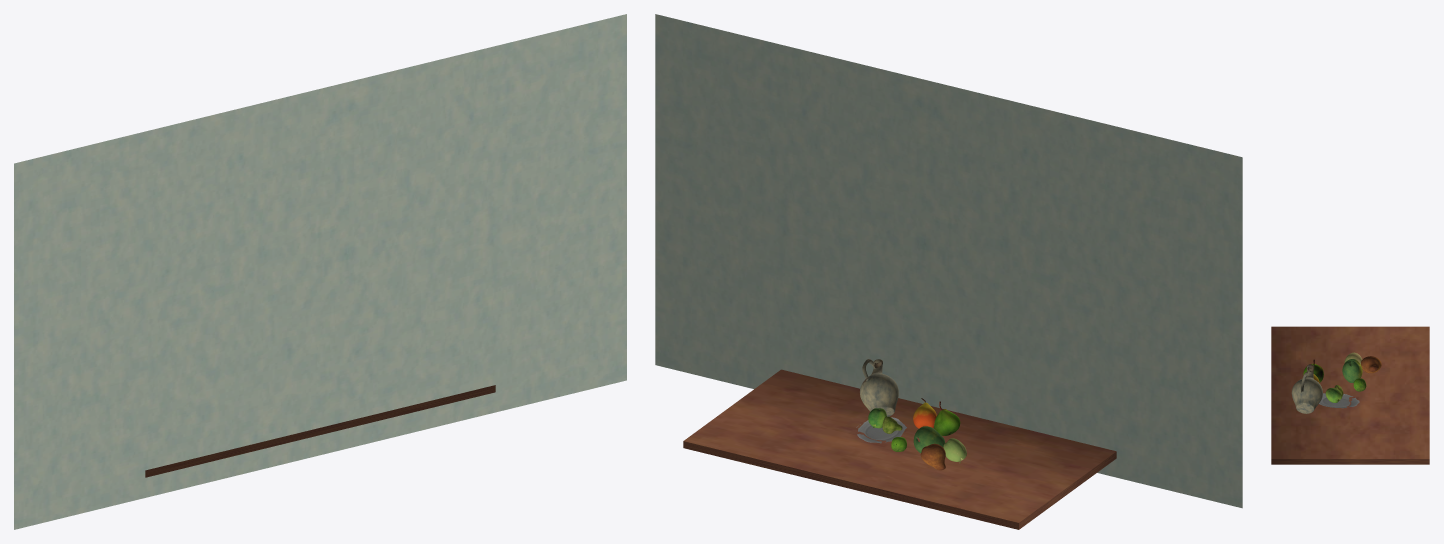
The model's file is viga.glb.
The picture shows the model from 3 angles, left to right: view 1: azimuth 30°, elevation 25°; view 2: azimuth 150°, elevation 25°; view 3: azimuth 270°, elevation 25°; orthographic projection. The views are drawn at different scales.
Parts seen in each view (by area): view 1: Pale sage wall, Continuous tabletop; view 2: Pale sage wall, Continuous tabletop, ceramic_jug_mesh; view 3: Continuous tabletop, ceramic_jug_mesh, green_pear_mesh, white_plate_mesh, red_pear_mesh.
Boxes of the visible parts, x1,y1,x2,y2 form: Pale sage wall: (14, 14, 626, 529); Continuous tabletop: (145, 385, 495, 477); Pale sage wall: (655, 14, 1242, 508); Continuous tabletop: (683, 369, 1116, 529); ceramic_jug_mesh: (860, 359, 898, 416); Continuous tabletop: (1271, 326, 1429, 464); ceramic_jug_mesh: (1291, 364, 1322, 413); green_pear_mesh: (1342, 359, 1362, 382); white_plate_mesh: (1319, 393, 1359, 408); red_pear_mesh: (1361, 356, 1381, 373).
Size of the model in its own units: 7 by 4 by 2.02.
12 materials, 12 textured.
